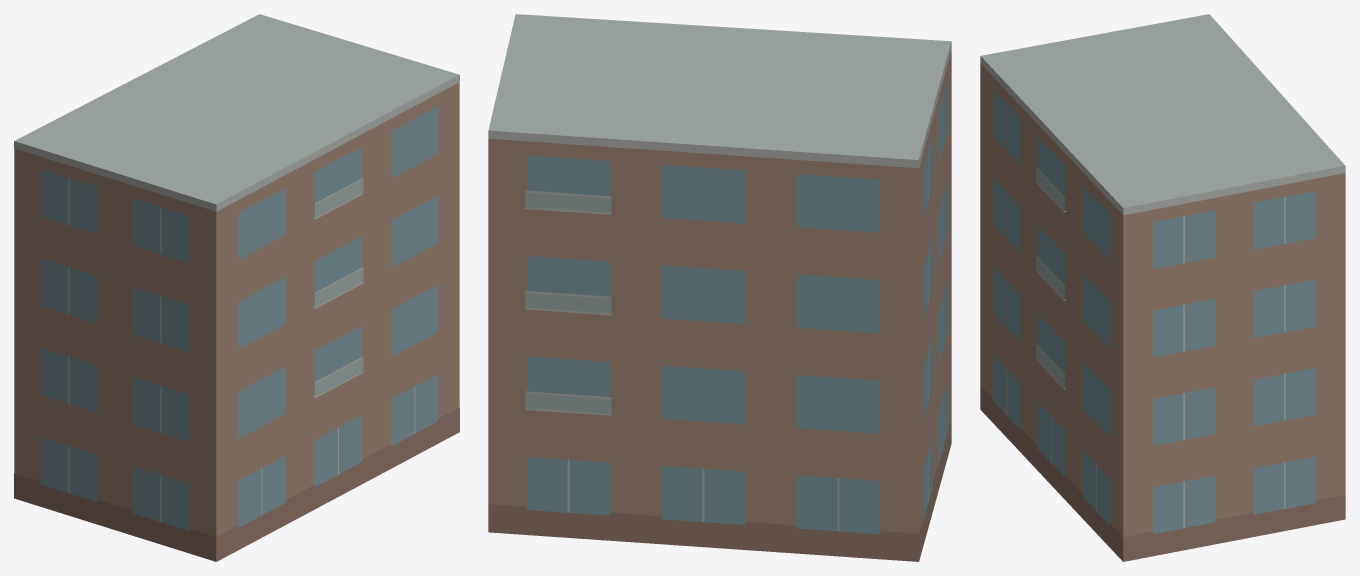
Rendered from survey-upis-32847495.glb.
3 views of the same model, side by side, from view 1: azimuth 30°, elevation 25°; view 2: azimuth 150°, elevation 25°; view 3: azimuth 270°, elevation 25° (orthographic). The views are drawn at different scales.
Visible parts, largest first — view 1: survey-upis-32847495.tmp; view 2: survey-upis-32847495.tmp; view 3: survey-upis-32847495.tmp.
Part boxes in pixels (bbox=[...]): survey-upis-32847495.tmp: bbox=[14, 14, 459, 561]; survey-upis-32847495.tmp: bbox=[488, 14, 951, 561]; survey-upis-32847495.tmp: bbox=[980, 14, 1345, 561].
Size of the model in its own units: 14.15 by 12 by 11.24.
